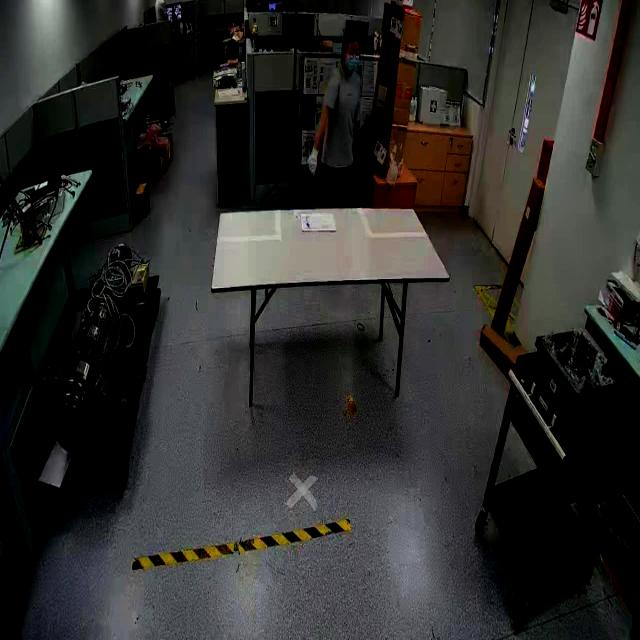face_mask: (340, 40, 364, 75)
hand_glove: (305, 137, 323, 188)
head_nohelmet: (342, 28, 362, 42)
person: (306, 36, 374, 206)
